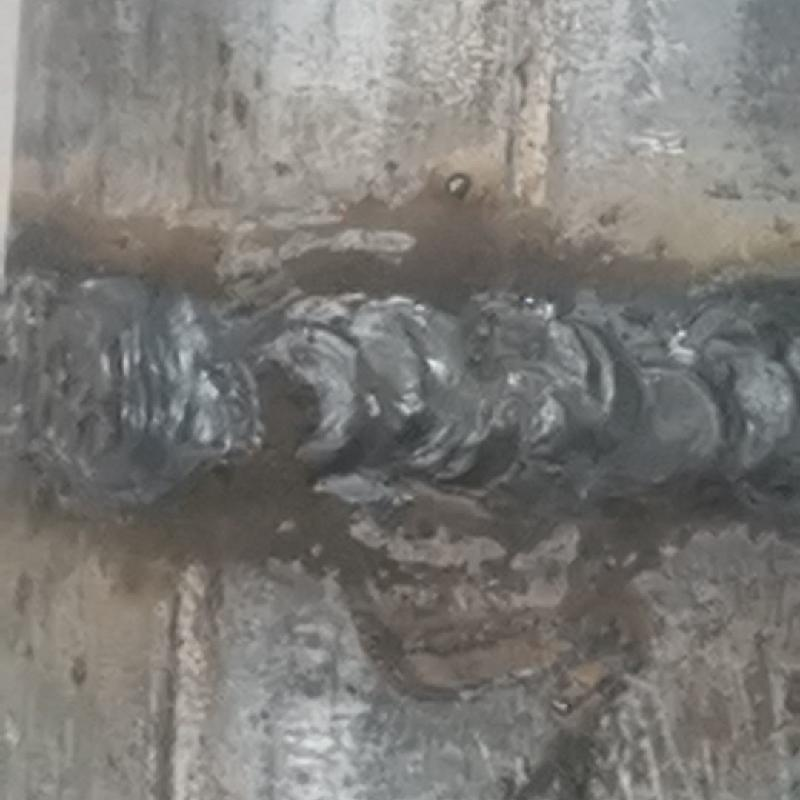good: (1, 262, 799, 516)
